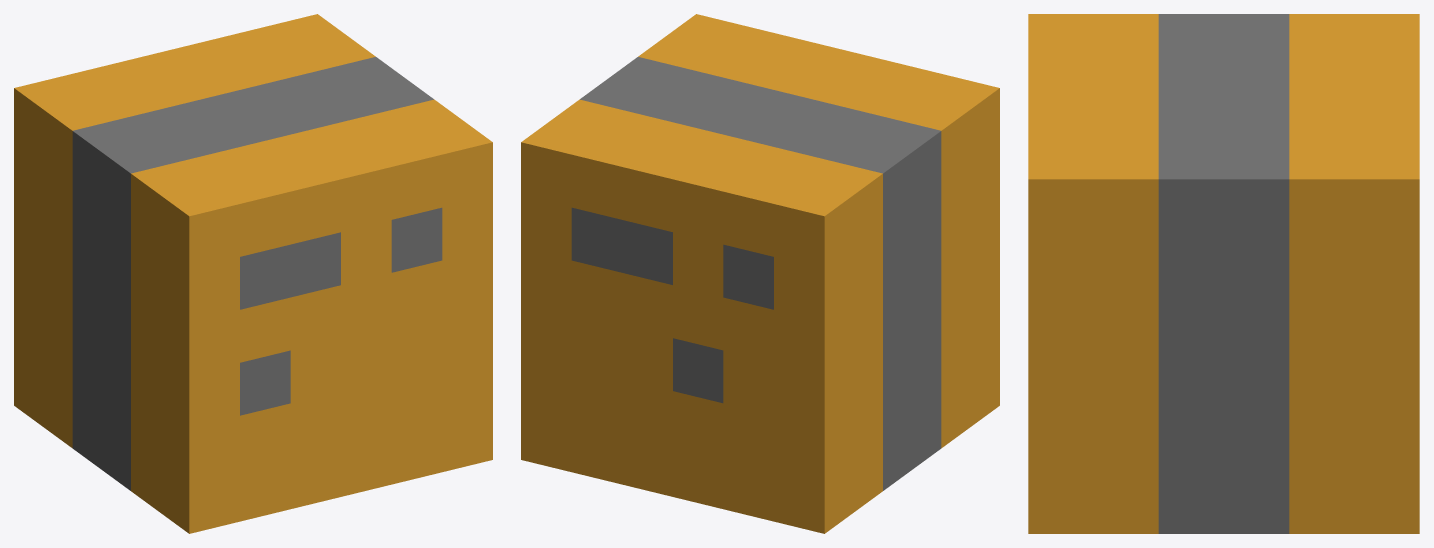
Rendered from package.obj.
The picture shows the model from 3 angles, left to right: view 1: azimuth 30°, elevation 25°; view 2: azimuth 150°, elevation 25°; view 3: azimuth 270°, elevation 25°; orthographic projection. The views are drawn at different scales.
Bounding box in the file's own units: 0.6 × 0.6 × 0.6.
Materials: 1 (1 with a texture image).
